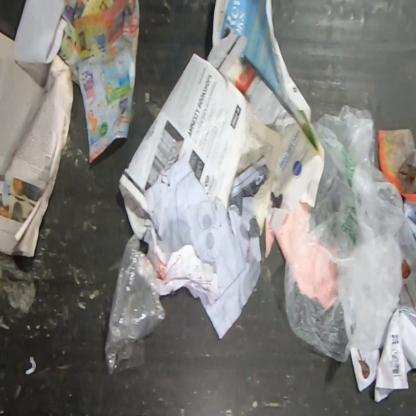soft_plastic: (282, 102, 416, 364), (103, 232, 166, 378)
